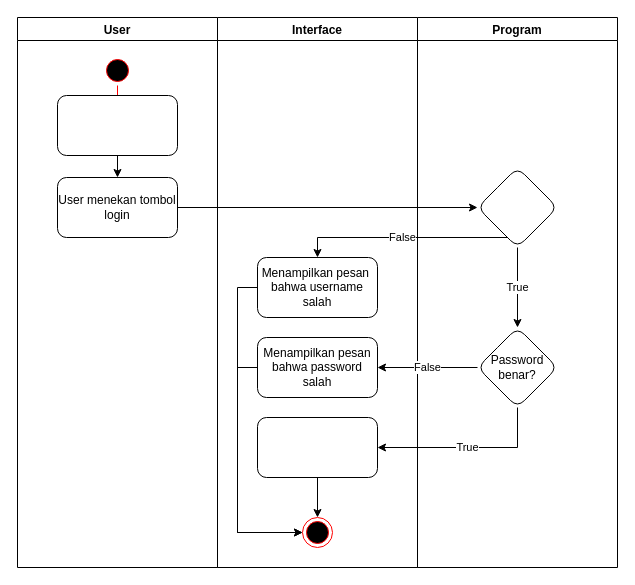
Image size: 635x585. Some labels were removed from this diagram. The shapes that lost their labels are listed below. From the top down, each one's centre as x and y in pixels, then its label:
pixel 117 125: User memasukkan username dan password pada text field
pixel 517 207: Username tersedia?
pixel 317 447: Masuk ke Main Menu
